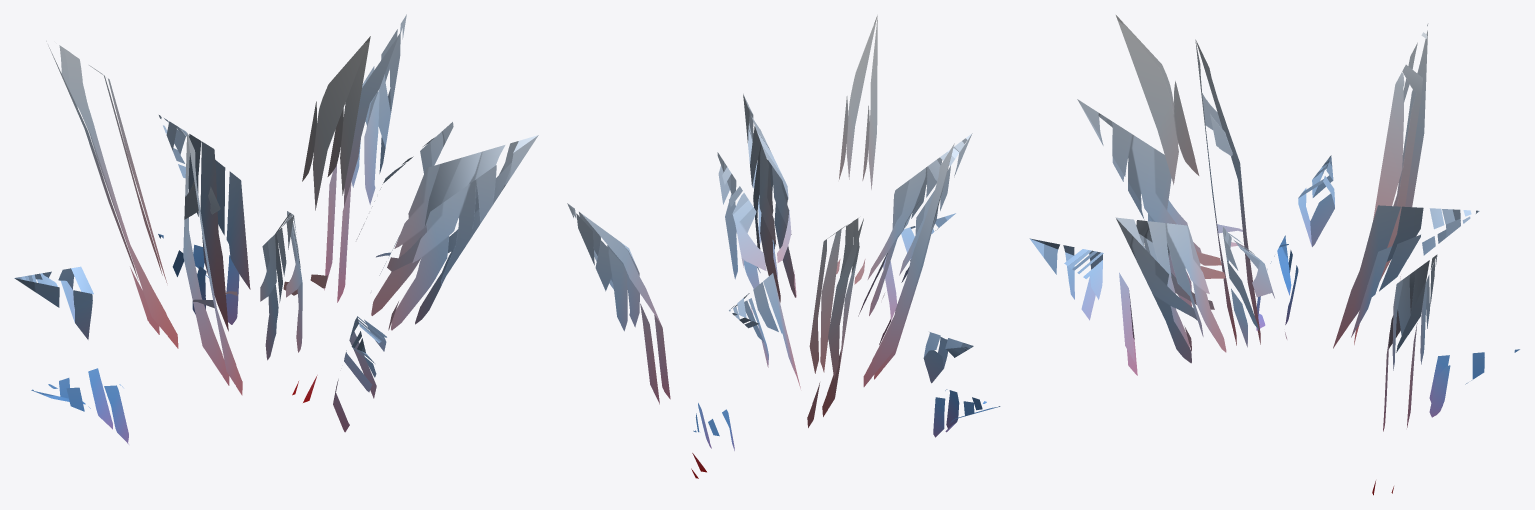
The model's file is source.gltf.
3 renders of one model, left to right at view 1: azimuth 30°, elevation 25°; view 2: azimuth 150°, elevation 25°; view 3: azimuth 270°, elevation 25°, orthographic. The views are drawn at different scales.
Parts seen in each view (by area): view 1: SM_Plant_Reeds_02; view 2: SM_Plant_Reeds_02; view 3: SM_Plant_Reeds_02.
Boxes of the visible parts, x1,y1,x2,y2 form: SM_Plant_Reeds_02: (14, 14, 538, 444); SM_Plant_Reeds_02: (567, 15, 1000, 478); SM_Plant_Reeds_02: (1029, 15, 1519, 495).
Size of the model in its own units: 0.9946 by 1.01 by 1.01.
Materials: 1 (1 with a texture image).
